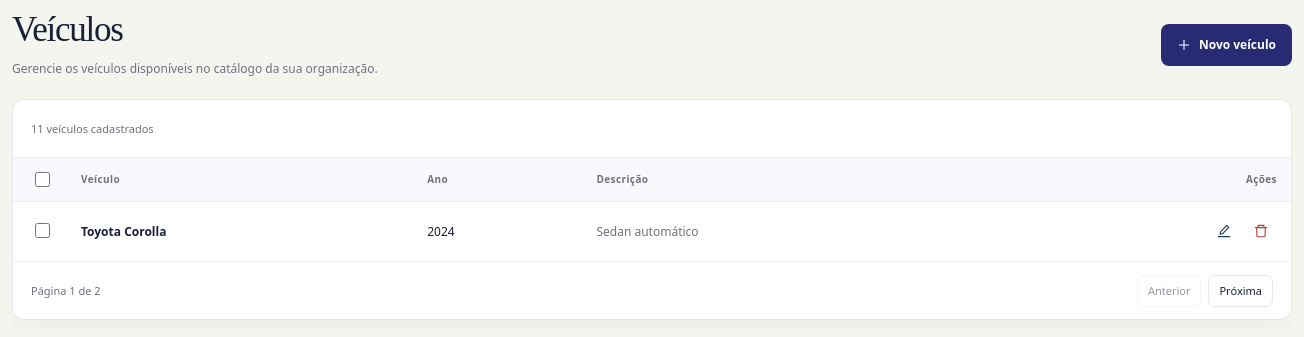
Scenario: vehicle management page › navigates between pages without hiding the current list while refreshing
The image size is (1304, 337).
Expected: the text "Toyota Corolla" is shown, [81,223,166,240]
Click the button with aria-label "Próxima página". click: click(1241, 290)
box: [1208,274,1273,306]
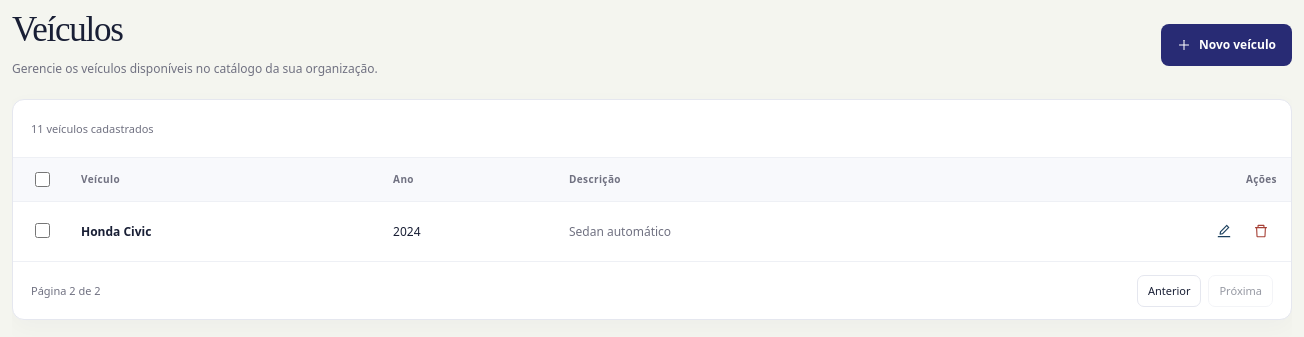
Expected: the text "Honda Civic" is shown, [81,223,151,240]
Expected: the text "Página 2 de 2" is shown, [31,283,101,298]
Click the button with aria-label "Página anterior". click: click(1169, 290)
box: [1137,274,1202,306]
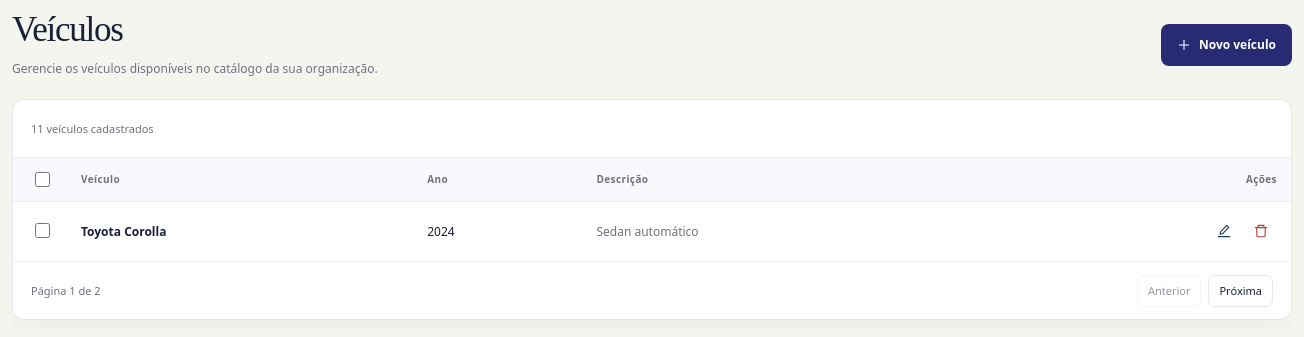
Expected: the text "Toyota Corolla" is shown, [81,223,166,240]
Expected: the text "Página 1 de 2" is shown, [31,283,101,298]
